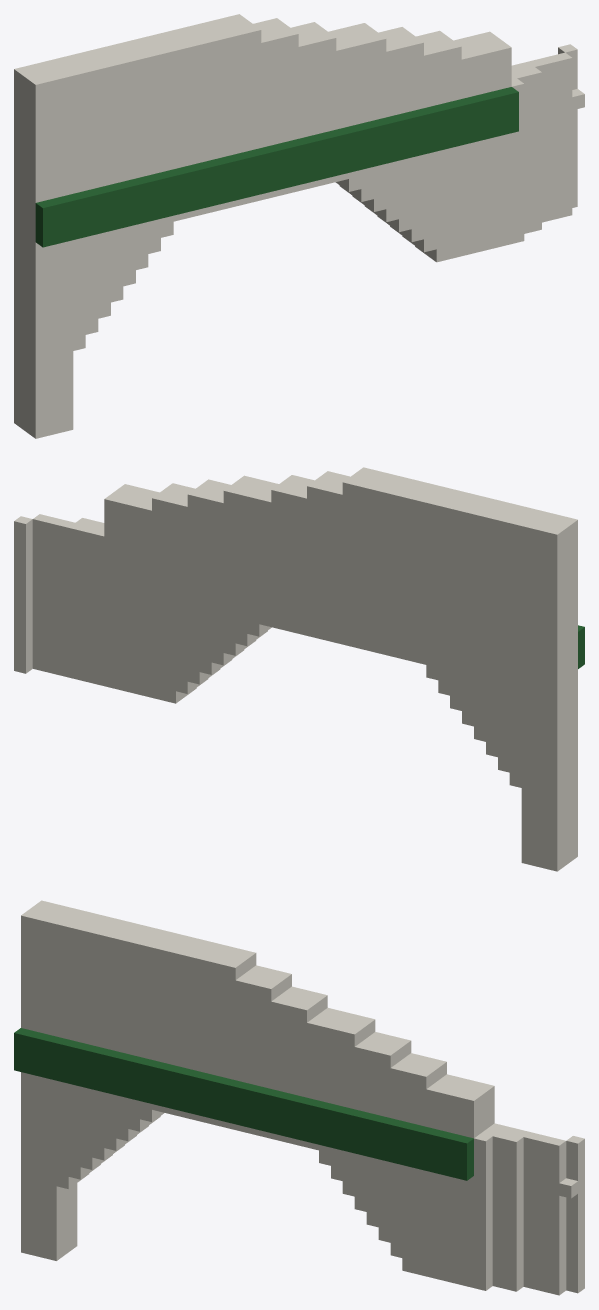
Rendered from minibus_front_wing.glb.
3 views of the same model, one above another, from view 1: azimuth 30°, elevation 25°; view 2: azimuth 150°, elevation 25°; view 3: azimuth 330°, elevation 25° (orthographic). The views are drawn at different scales.
Visible parts, largest first — view 1: body:compound; view 2: body:compound; view 3: body:compound.
Boxes of the visible parts, x1=… form: body:compound: x1=14, y1=14, x2=584, y2=438; body:compound: x1=14, y1=467, x2=584, y2=871; body:compound: x1=14, y1=900, x2=584, y2=1295.
Size of the model in its own units: 1.41 by 0.8438 by 0.1562.
